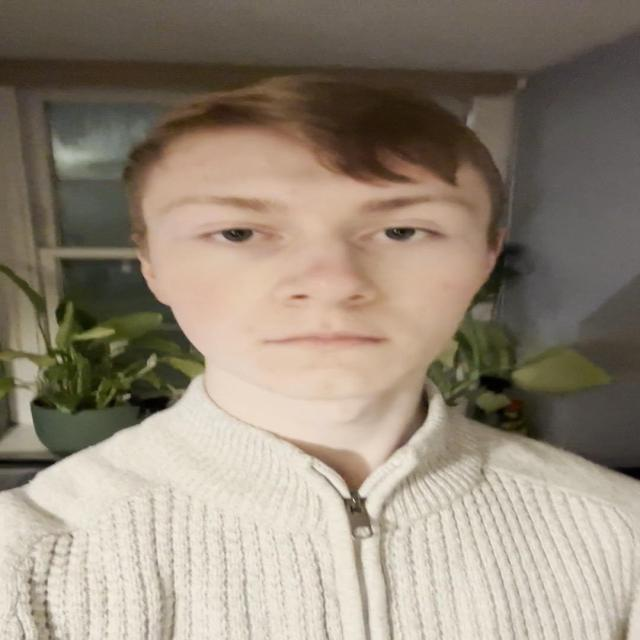no-helmet: (138, 119, 494, 401)
